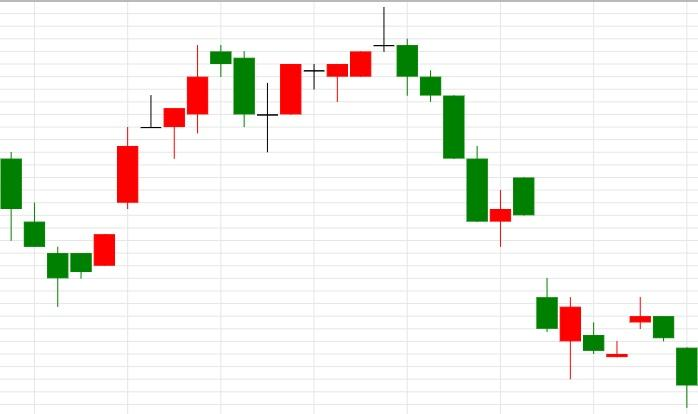evening_star_fall: (256, 7, 419, 153)
three_black_crows_fall: (256, 7, 465, 159)
